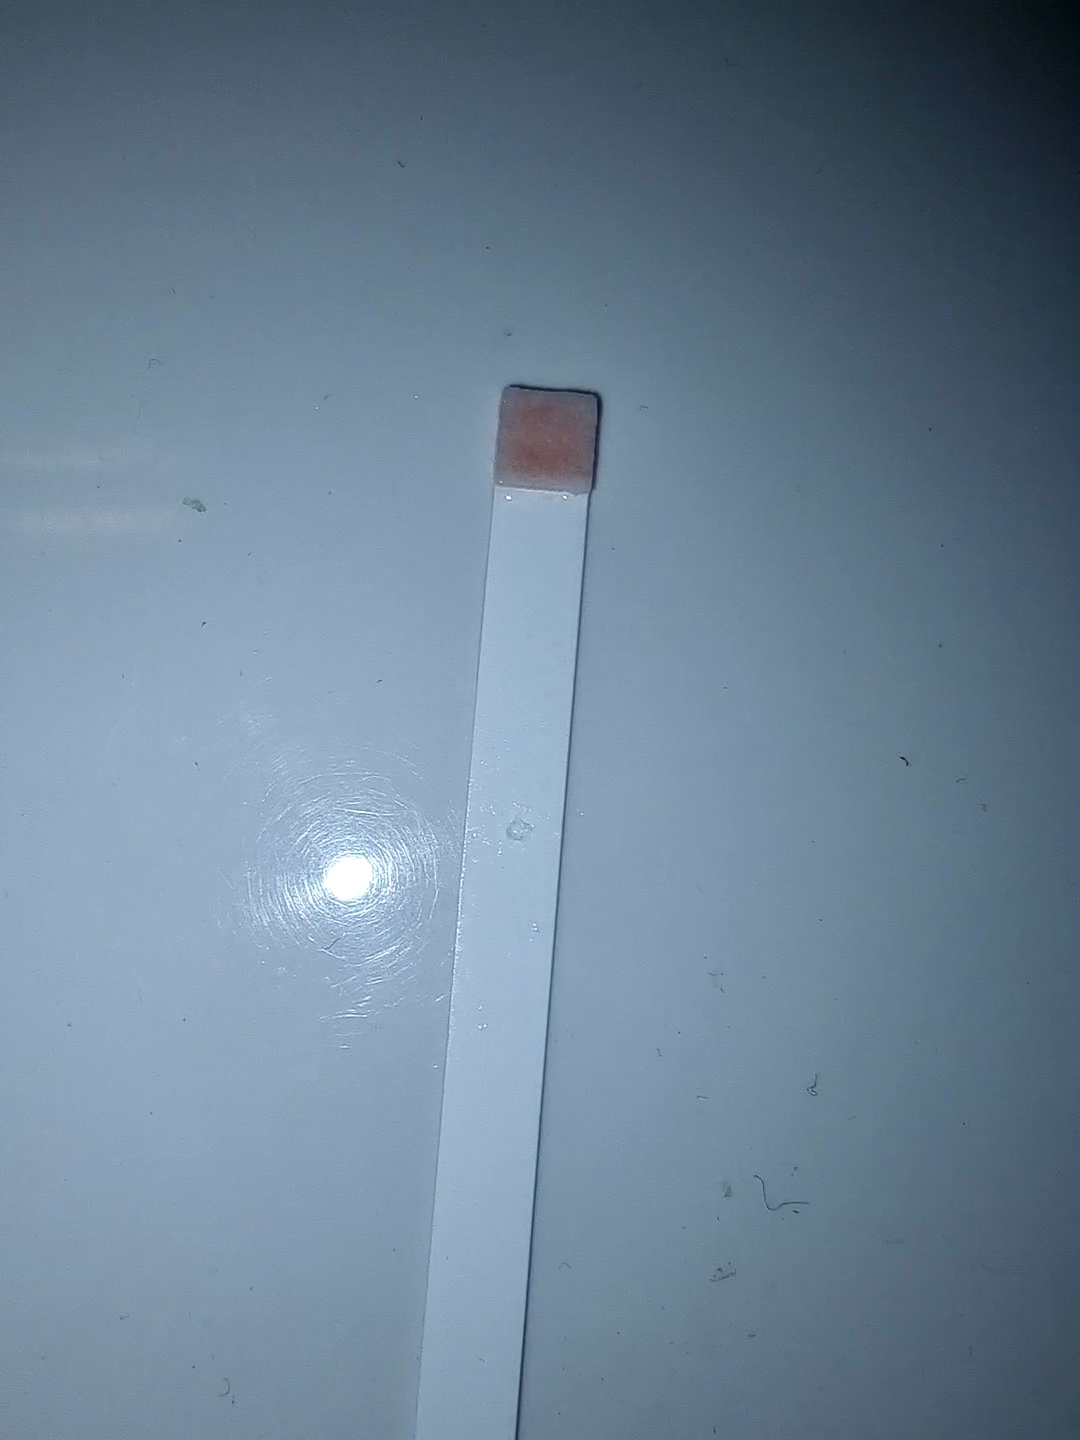keto-tip: (490, 380, 606, 503)
